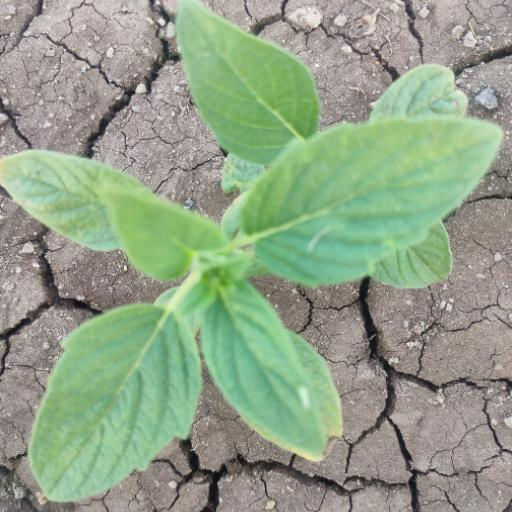crop: (16, 22, 501, 485)
